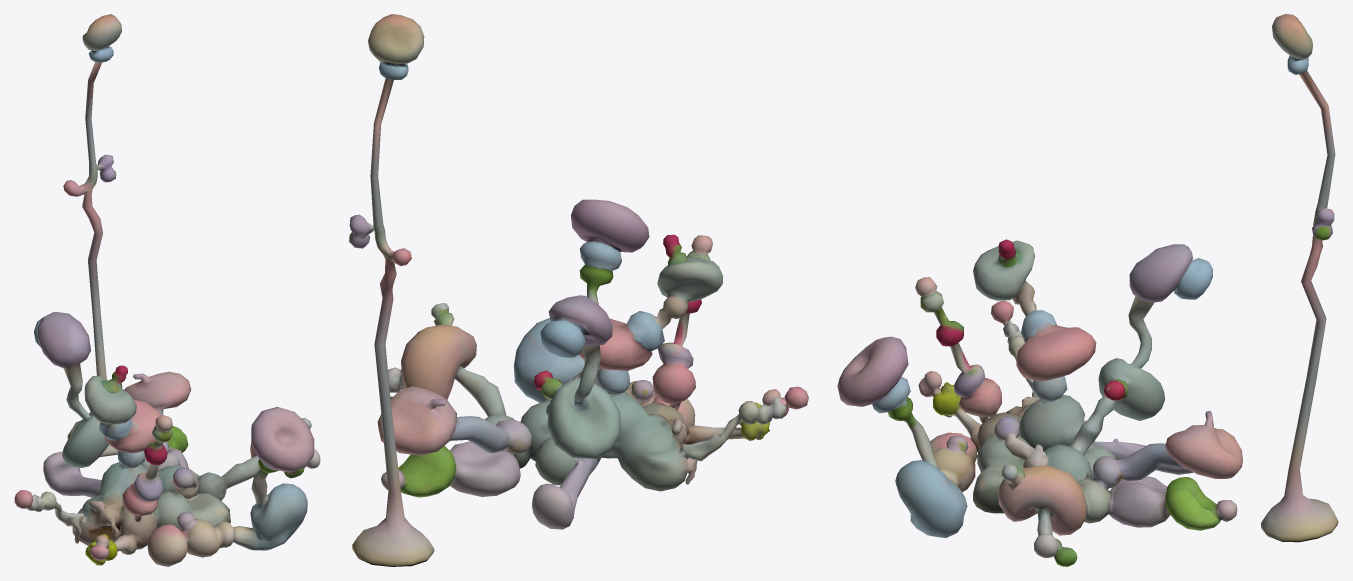
File: c0409f66-1bdf-4718-abfc-b5f92a178968.glb
3 renders of one model, left to right at view 1: azimuth 30°, elevation 25°; view 2: azimuth 150°, elevation 25°; view 3: azimuth 270°, elevation 25°, orthographic. The views are drawn at different scales.
Parts seen in each view (by area): view 1: tripo_node_ad122197-2f2d-4152-86a1-b7bffe8f23ab; view 2: tripo_node_ad122197-2f2d-4152-86a1-b7bffe8f23ab; view 3: tripo_node_ad122197-2f2d-4152-86a1-b7bffe8f23ab.
Boxes of the visible parts, <box> form: tripo_node_ad122197-2f2d-4152-86a1-b7bffe8f23ab: <box>14,14,320,566</box>; tripo_node_ad122197-2f2d-4152-86a1-b7bffe8f23ab: <box>349,14,808,566</box>; tripo_node_ad122197-2f2d-4152-86a1-b7bffe8f23ab: <box>837,14,1338,566</box>.
Size of the model in its own units: 0.7808 by 1 by 0.8826.
Materials: 1 (1 with a texture image).
